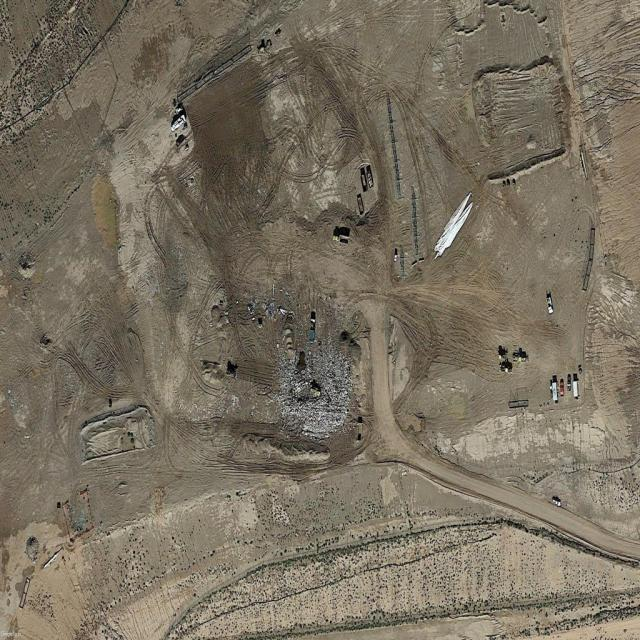dump_site: (270, 346, 355, 438)
